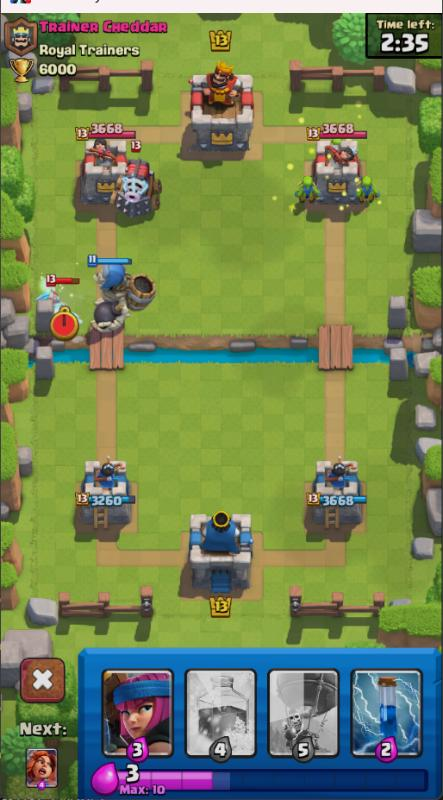gobelin: (352, 175, 379, 204), (296, 175, 320, 203), (331, 137, 341, 144)
zappy: (109, 157, 163, 214)
